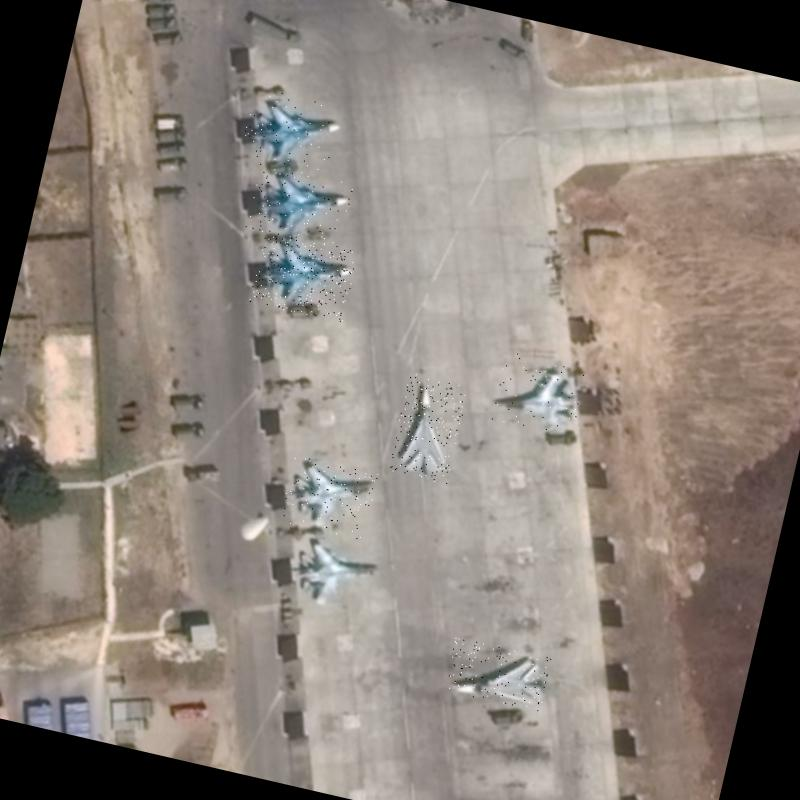A1: (278, 530, 388, 622), (278, 454, 378, 540), (490, 350, 587, 438)
A19: (249, 229, 358, 323), (245, 162, 354, 250), (239, 86, 346, 174)
A20: (386, 372, 469, 486), (443, 636, 552, 712)
